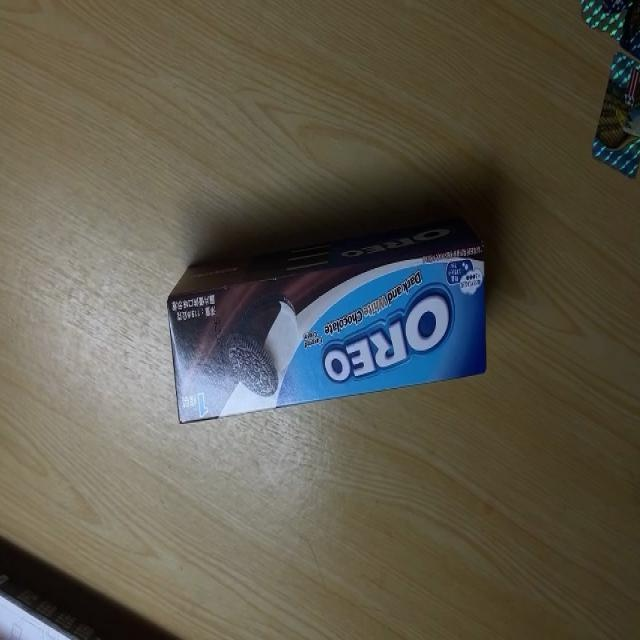Oreo: (165, 227, 488, 426)
